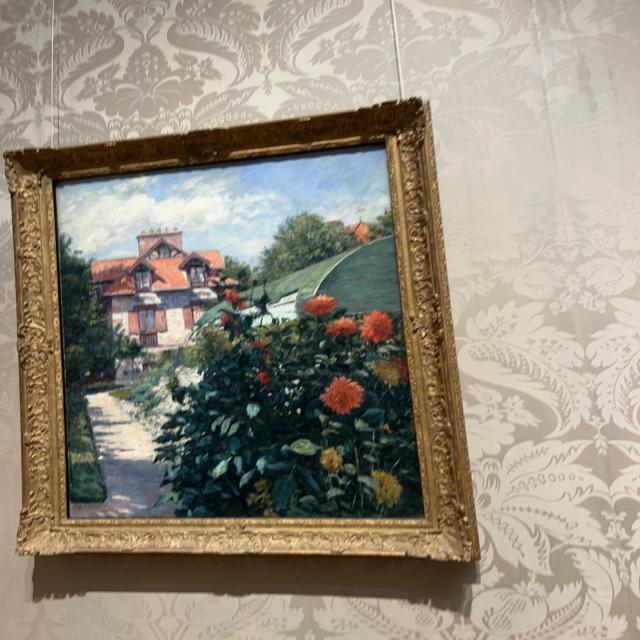summer: (59, 148, 422, 516)
